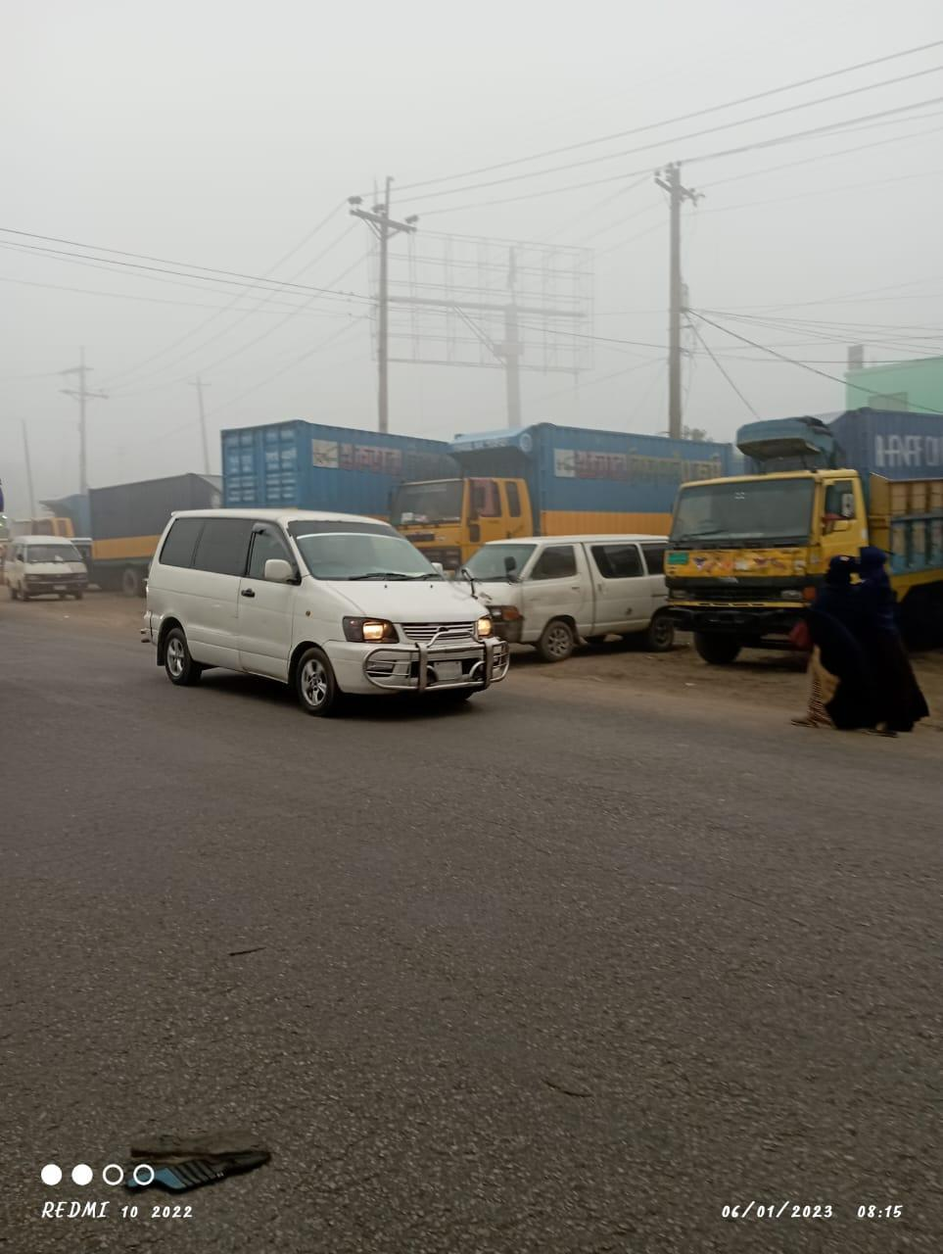Car: (134, 498, 517, 737), (466, 534, 684, 657), (8, 524, 96, 606)
Truck: (660, 409, 943, 675), (389, 422, 689, 541), (212, 414, 467, 513)
